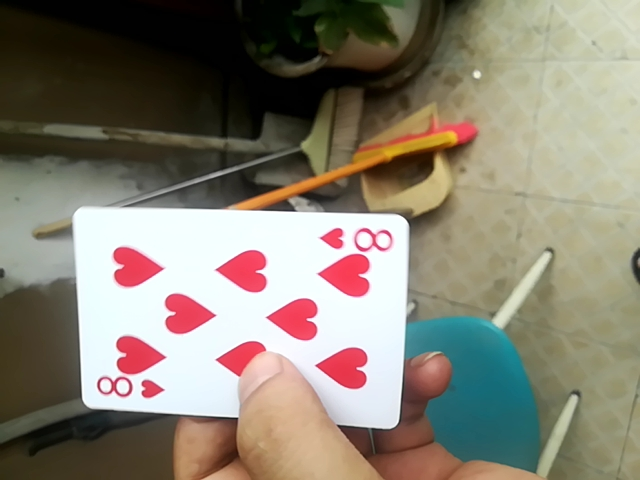hx 8: (72, 203, 408, 426)
